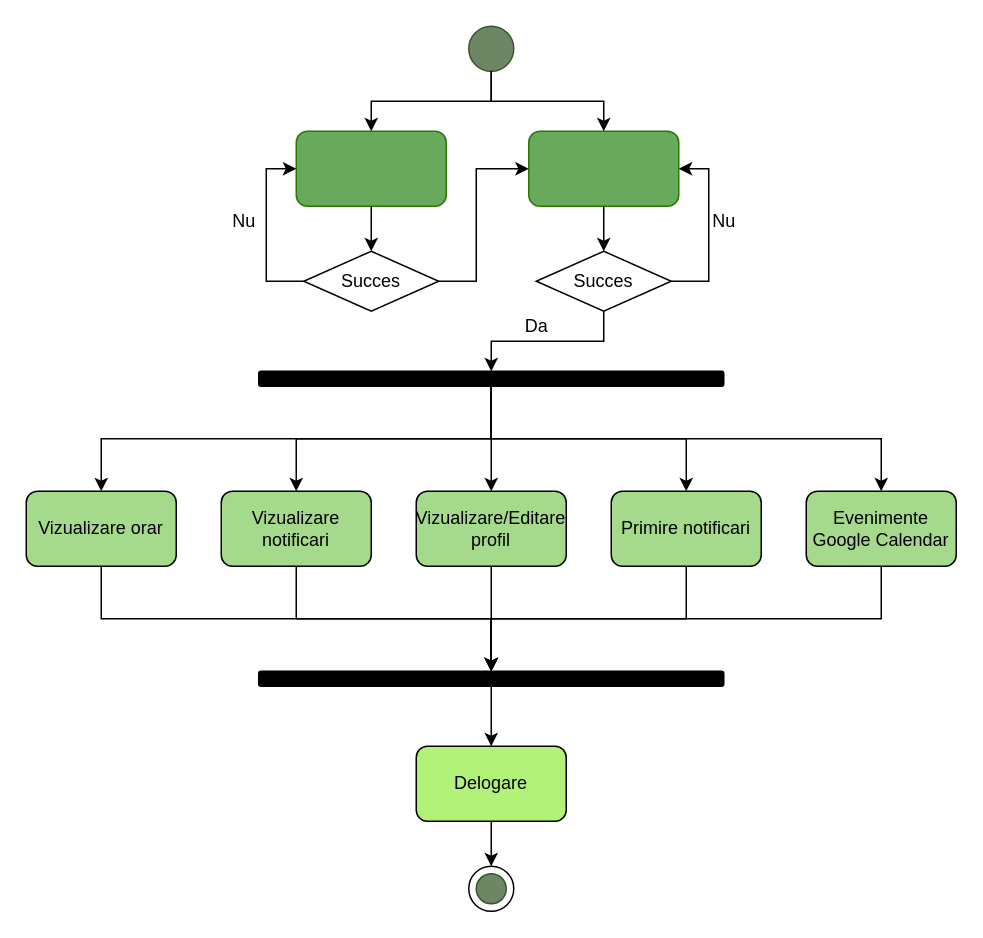
Some shapes in this 983 by 938 pixel diagram are drawn without their labels. The shapes that lost their labels are listed below. From the top down, each one's centre as x and y in pixels, then its label:
At [370,168]: "Inregistrare".
At [603,168]: "Logare".
